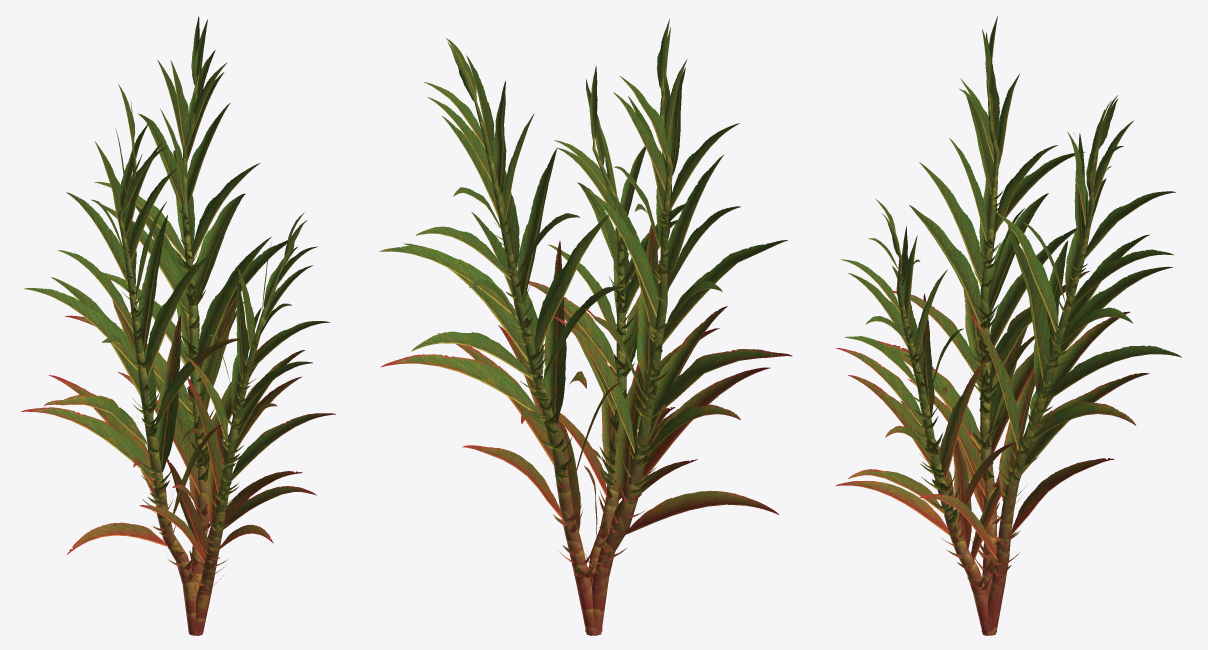
File: Plant - Alien Plant 5 2-BY6IrijR.glb
3 views of the same model, side by side, from view 1: azimuth 30°, elevation 25°; view 2: azimuth 150°, elevation 25°; view 3: azimuth 270°, elevation 25° (orthographic). The views are drawn at different scales.
Visible parts, largest first — view 1: Plant5_2_L0(Clone); view 2: Plant5_2_L0(Clone); view 3: Plant5_2_L0(Clone).
Part boxes in pixels (box(x1,y1,x2,y2)): Plant5_2_L0(Clone): box(21, 16, 335, 635); Plant5_2_L0(Clone): box(379, 19, 792, 635); Plant5_2_L0(Clone): box(835, 16, 1181, 635).
Bounding box in the file's own units: 3.19 × 5.65 × 3.2.
2 materials, 2 textured.
